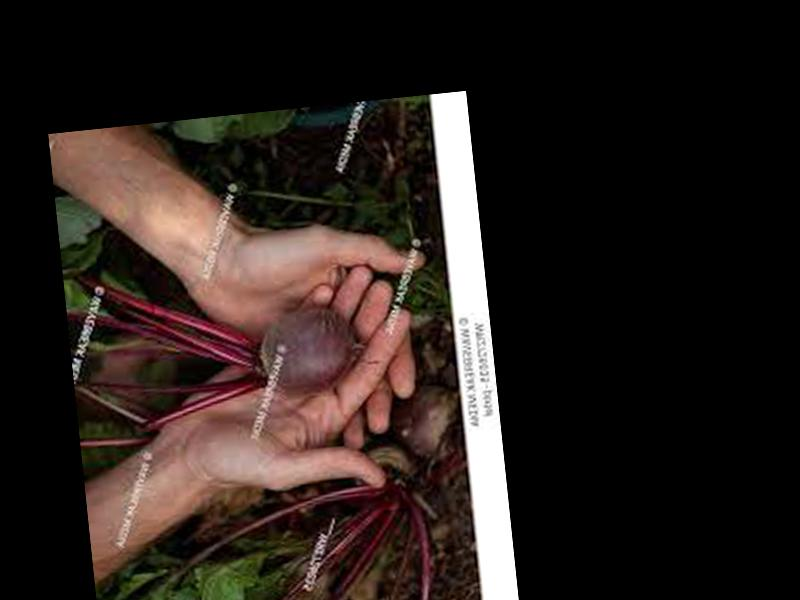Beet: (71, 241, 371, 438)
